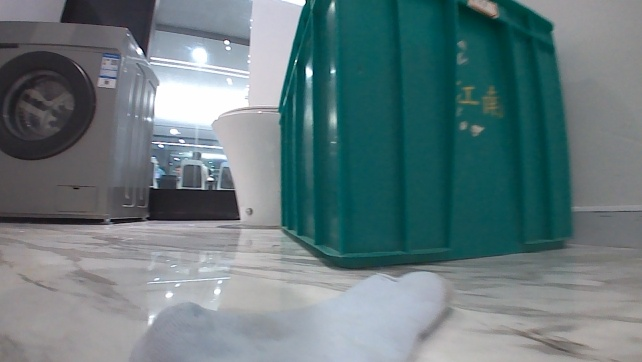socks: (119, 265, 451, 361)
toilet: (210, 102, 285, 228)
washing_machine: (0, 16, 160, 225)
